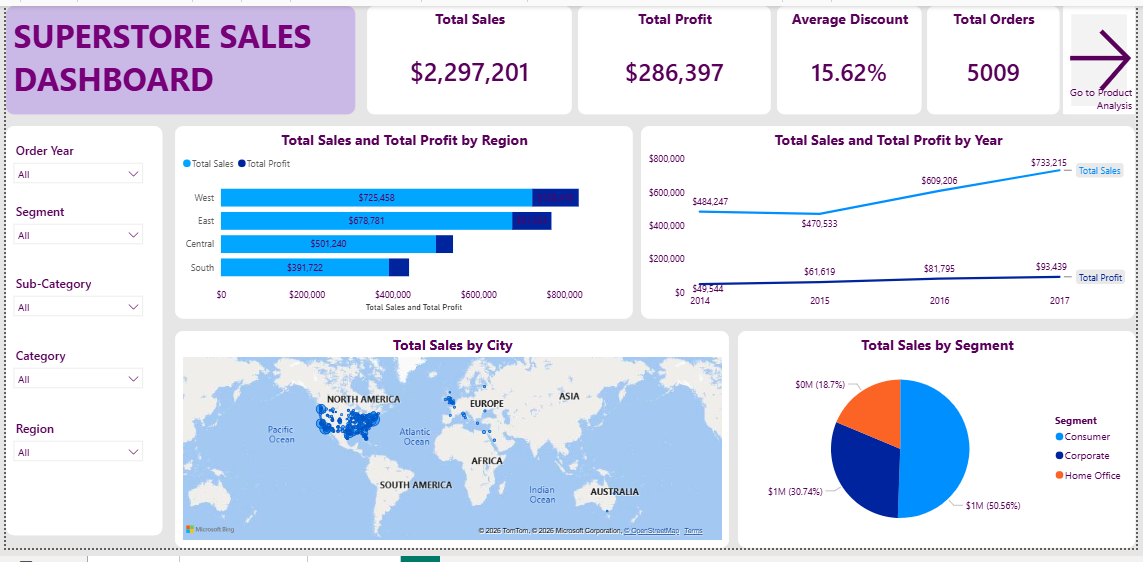

The page's visual inventory and layout, read from the dashboard file:
{"tool":"powerbi","page":{"name":"Overview","canvas":[1500,720],"ordinal":0},"visuals":[{"type":"textbox","box":[0,0,464,144],"z":0},{"type":"shape","box":[0,160,208,544],"z":0,"group":"g1"},{"type":"cardVisual","title":"Total Sales","fields":{"Data":["Sample - Superstore.Total Sales"]},"box":[480,0,272,144],"z":1000},{"type":"slicer","fields":{"Values":["Sample - Superstore.Order Date.Variation.Date Hierarchy.Year"]},"box":[0,176,192,64],"z":1000,"group":"g1"},{"type":"cardVisual","title":"Average Discount","fields":{"Data":["Sample - Superstore.Average Discont"]},"box":[1024,0,192,144],"z":2000},{"type":"slicer","fields":{"Values":["Sample - Superstore.Segment"]},"box":[0,256,192,80],"z":2000,"group":"g1"},{"type":"cardVisual","title":"Total Profit","fields":{"Data":["Sample - Superstore.Total Profit"]},"box":[760,0,256,144],"z":3000},{"type":"slicer","fields":{"Values":["Sample - Superstore.Sub-Category"]},"box":[0,352,192,80],"z":3000,"group":"g1"},{"type":"cardVisual","title":"Total Orders","fields":{"Data":["Sample - Superstore.Total Orders"]},"box":[1224,0,176,144],"z":4000},{"type":"slicer","fields":{"Values":["Sample - Superstore.Category"]},"box":[0,448,192,80],"z":4000,"group":"g1"},{"type":"barChart","fields":{"Y":["Sample - Superstore.Total Sales","Sample - Superstore.Total Profit"],"Category":["Sample - Superstore.Region"]},"box":[224,160,608,256],"z":5000},{"type":"slicer","fields":{"Values":["Sample - Superstore.Region"]},"box":[0,544,192,80],"z":5000,"group":"g1"},{"type":"lineChart","fields":{"Category":["Sample - Superstore.Order Date.Variation.Date Hierarchy.Year","Sample - Superstore.Order Date.Variation.Date Hierarchy.Quarter","Sample - Superstore.Order Date.Variation.Date Hierarchy.Month","Sample - Superstore.Order Date.Variation.Date Hierarchy.Day"],"Y":["Sample - Superstore.Total Sales","Sample - Superstore.Total Profit"]},"box":[844,160,656,256],"z":6000},{"type":"map","fields":{"Category":["Sample - Superstore.City"],"Size":["Sample - Superstore.Total Sales"]},"box":[224,432,736,288],"z":7000},{"type":"actionButton","box":[1404,0,96,144],"z":7009,"group":"g1"},{"type":"group","id":"g1","title":"Group 1","box":[0,0,1500,704],"z":8000},{"type":"pieChart","fields":{"Category":["Sample - Superstore.Segment"],"Y":["Sample - Superstore.Total Sales"]},"box":[972,432,528,288],"z":9000}]}

Visuals, with their boxes in screenshot pixels (x1, y1, x2, y2), scaled from the page's 1500x720 canvas onto the 1143x562 screenshot:
textbox: BBox(0, 0, 354, 112)
shape: BBox(0, 125, 158, 550)
"Total Sales" cardVisual: BBox(366, 0, 573, 112)
slicer - Sample - Superstore.Order Date.Variation.Date Hierarchy.Year: BBox(0, 137, 146, 187)
"Average Discount" cardVisual: BBox(780, 0, 927, 112)
slicer - Sample - Superstore.Segment: BBox(0, 200, 146, 262)
"Total Profit" cardVisual: BBox(579, 0, 774, 112)
slicer - Sample - Superstore.Sub-Category: BBox(0, 275, 146, 337)
"Total Orders" cardVisual: BBox(933, 0, 1067, 112)
slicer - Sample - Superstore.Category: BBox(0, 350, 146, 412)
barChart - Sample - Superstore.Total Sales x Sample - Superstore.Total Profit: BBox(171, 125, 634, 325)
slicer - Sample - Superstore.Region: BBox(0, 425, 146, 487)
lineChart - Sample - Superstore.Order Date.Variation.Date Hierarchy.Year x Sample - Superstore.Order Date.Variation.Date Hierarchy.Quarter: BBox(643, 125, 1142, 325)
map - Sample - Superstore.City x Sample - Superstore.Total Sales: BBox(171, 337, 732, 561)
actionButton: BBox(1070, 0, 1142, 112)
"Group 1" group: BBox(0, 0, 1142, 550)
pieChart - Sample - Superstore.Segment x Sample - Superstore.Total Sales: BBox(741, 337, 1142, 561)
